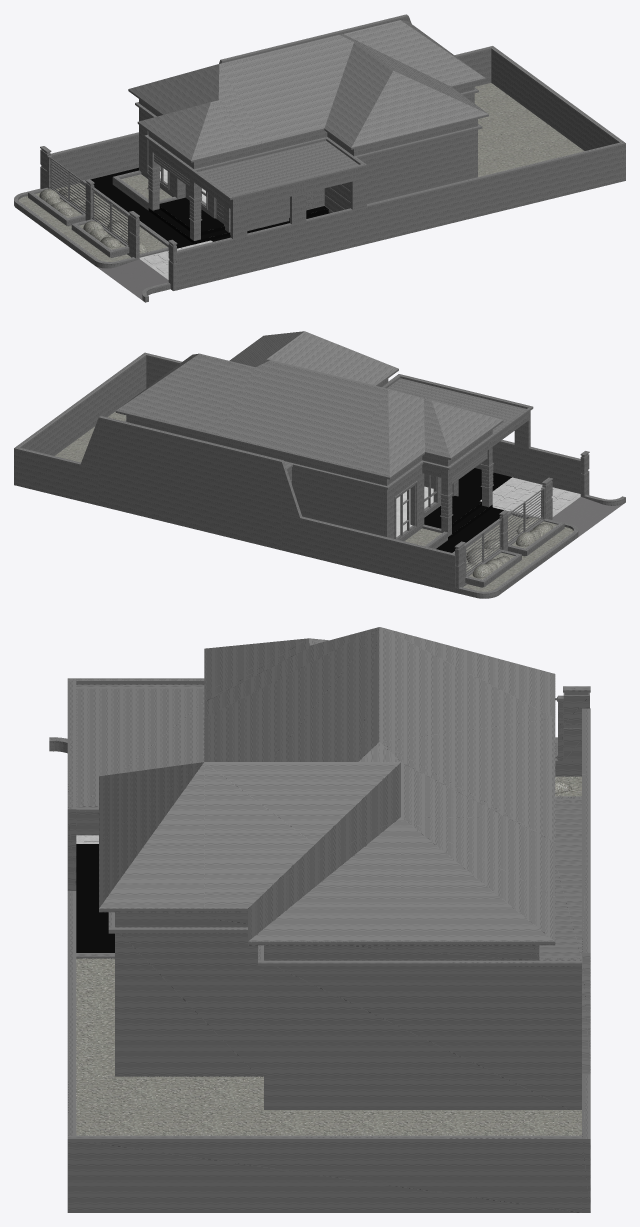
3 views of the same model, one above another, from view 1: azimuth 30°, elevation 25°; view 2: azimuth 150°, elevation 25°; view 3: azimuth 270°, elevation 25° (orthographic). The views are drawn at different scales.
Parts seen in each view (by area): view 1: Part205, Union38, Part103, Part58, Part217, Part31, Part284, Part74, Part280, Part139, Part281, Part285 (+30 smaller); view 2: Part30, Union38, Part74, Part288, Part34, Part217, Part285, Part205, Part135, Part31, Part281, Part73 (+31 smaller); view 3: Part140, Part217, Union38, Part219, Part283, Part103, Part290, Part289, Part280, Part31, Part288, Part53 (+22 smaller).
Part boxes in pixels (left/top/right/bottom): Part205: left=176, top=142, right=622, bottom=290; Union38: left=219, top=34, right=353, bottom=142; Part103: left=474, top=83, right=584, bottom=174; Part58: left=359, top=130, right=474, bottom=204; Part217: left=491, top=47, right=625, bottom=181; Part31: left=199, top=140, right=358, bottom=195; Part284: left=324, top=71, right=419, bottom=147; Part74: left=51, top=132, right=138, bottom=188; Part280: left=394, top=71, right=488, bottom=130; Part139: left=165, top=102, right=237, bottom=160; Part281: left=324, top=42, right=392, bottom=127; Part285: left=128, top=64, right=218, bottom=114; Part30: left=98, top=416, right=283, bottom=550; Union38: left=217, top=359, right=387, bottom=466; Part74: left=281, top=513, right=455, bottom=592; Part288: left=161, top=353, right=255, bottom=435; Part34: left=292, top=466, right=388, bottom=537; Part217: left=16, top=352, right=147, bottom=455; Part285: left=344, top=389, right=424, bottom=477; Part205: left=146, top=353, right=581, bottom=493; Part135: left=14, top=446, right=98, bottom=505; Part31: left=387, top=378, right=524, bottom=431; Part281: left=267, top=331, right=366, bottom=383; Part73: left=126, top=415, right=383, bottom=484; Part140: left=264, top=957, right=581, bottom=1109; Part217: left=67, top=1135, right=581, bottom=1212; Union38: left=204, top=627, right=555, bottom=842; Part219: left=115, top=927, right=263, bottom=1076; Part283: left=204, top=762, right=400, bottom=908; Part103: left=76, top=1110, right=581, bottom=1135; Part290: left=401, top=817, right=554, bottom=941; Part289: left=248, top=817, right=400, bottom=941; Part280: left=99, top=762, right=204, bottom=908; Part31: left=76, top=688, right=204, bottom=805; Part288: left=401, top=762, right=554, bottom=896; Part53: left=76, top=1076, right=263, bottom=1109.
Size of the model in its own units: 91.17 by 24.87 by 44.82.
40 materials, 39 textured.
